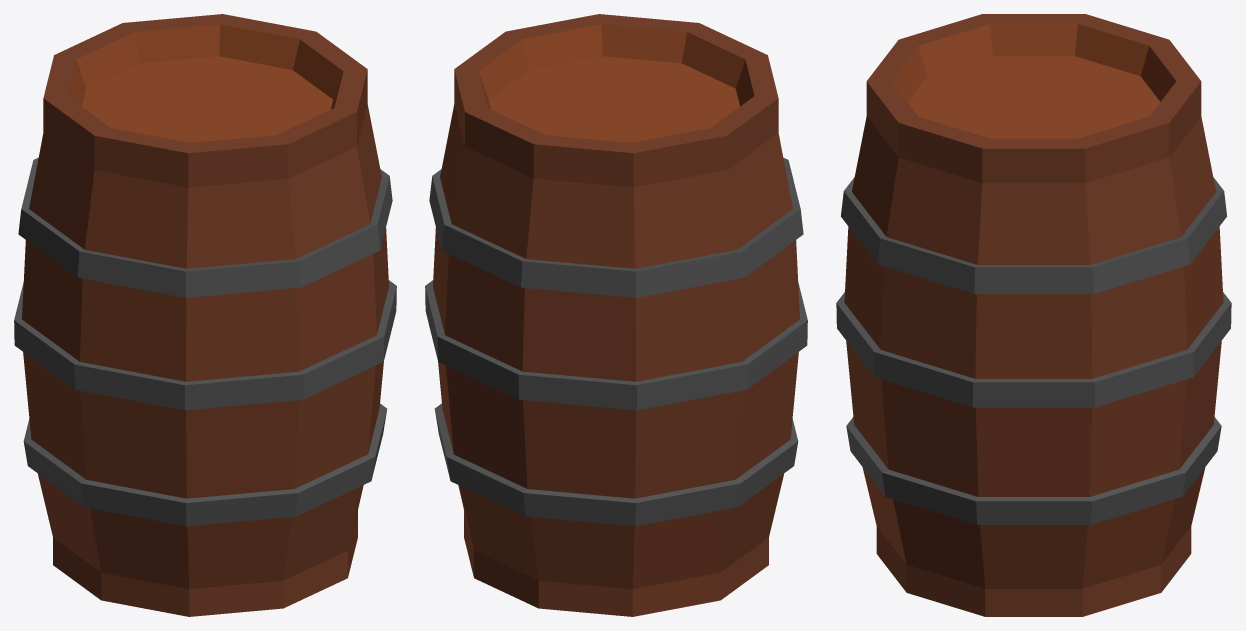
Rendered from Barrel.fbx.
3 renders of one model, left to right at view 1: azimuth 30°, elevation 25°; view 2: azimuth 150°, elevation 25°; view 3: azimuth 270°, elevation 25°, orthographic.
Visible parts, largest first — view 1: barrel; view 2: barrel; view 3: barrel.
Boxes of the visible parts, bbox=[...] form: barrel: bbox=[14, 14, 396, 616]; barrel: bbox=[425, 14, 807, 616]; barrel: bbox=[836, 14, 1231, 616].
Bounding box in the file's own units: 0.6135 × 0.8509 × 0.645.
